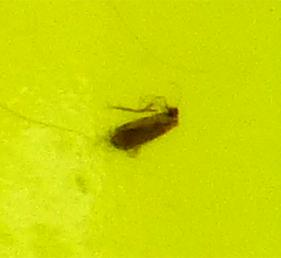Trichoptera: (100, 100, 181, 158)
